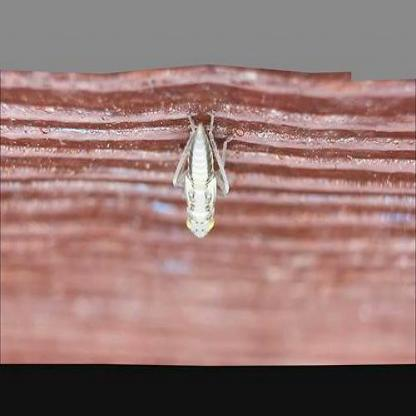green-leafhopper: (168, 110, 233, 243)
